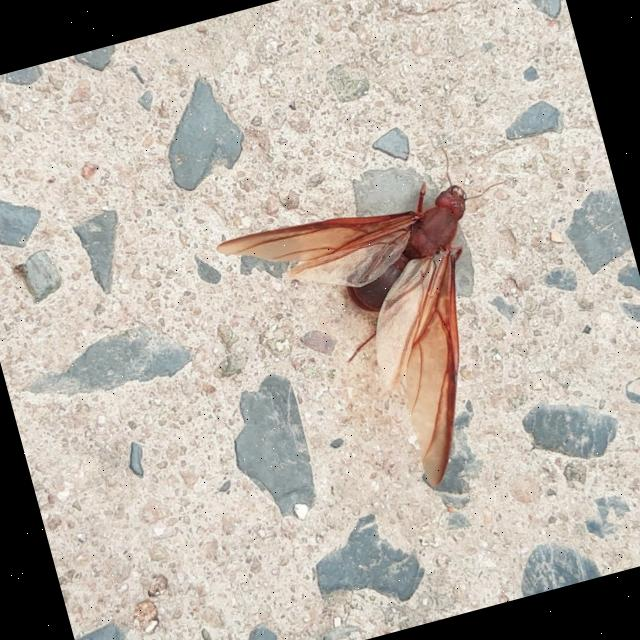Alive-Female-Alate: (205, 132, 580, 526)
